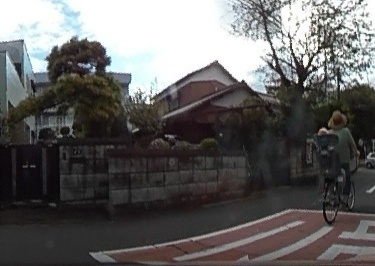person: (321, 109, 352, 194)
